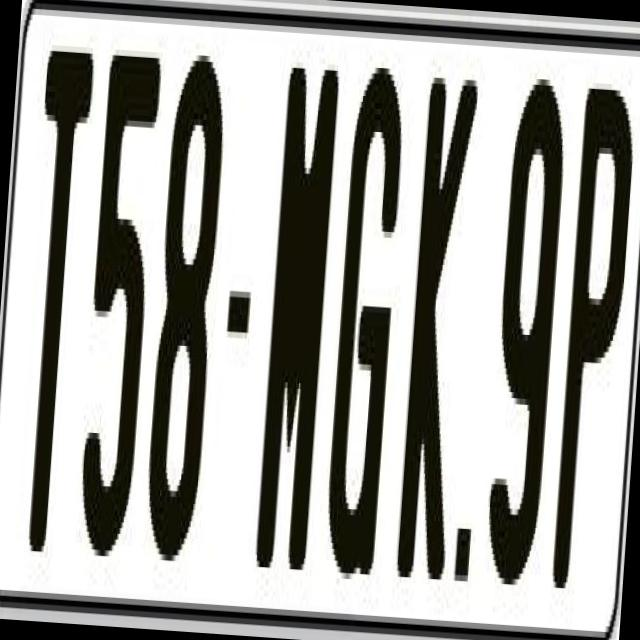5: (74, 48, 166, 552)
8: (142, 36, 228, 556)
9: (478, 59, 572, 598)
G: (318, 66, 408, 592)
K: (392, 76, 478, 608)
M: (250, 56, 338, 564)
P: (548, 70, 628, 584)
T: (12, 39, 100, 542)
